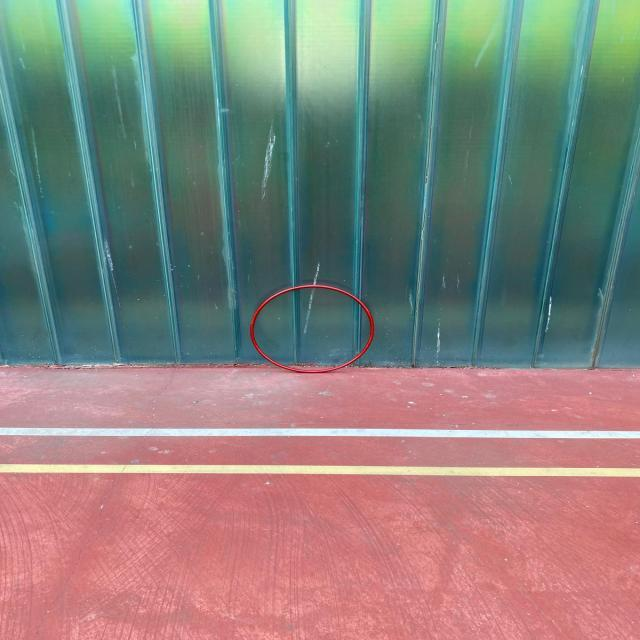Circle: (249, 284, 376, 373)
